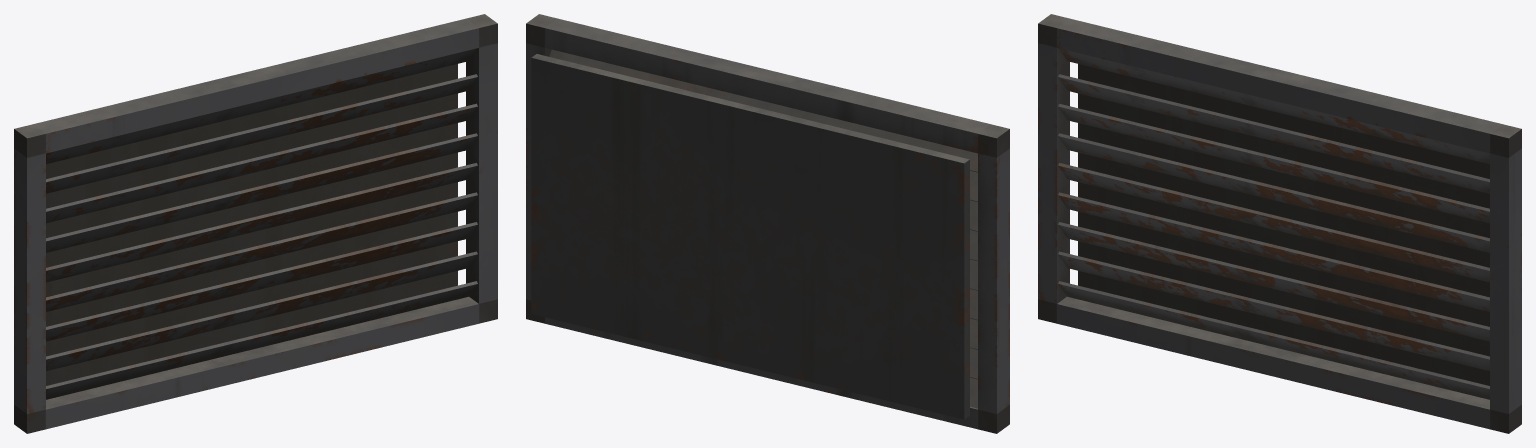
File: SM_VentGrille.fbx
3 views of the same model, side by side, from view 1: azimuth 30°, elevation 25°; view 2: azimuth 150°, elevation 25°; view 3: azimuth 330°, elevation 25° (orthographic).
Visible parts, largest first — view 1: SM_VentGrille; view 2: SM_VentGrille; view 3: SM_VentGrille.
Boxes of the visible parts, x1,y1,x2,y2 form: SM_VentGrille: (14, 14, 497, 433); SM_VentGrille: (526, 14, 1009, 433); SM_VentGrille: (1038, 14, 1521, 433).
Bounding box in the file's own units: 0.5 × 0.3 × 0.049.
1 material, 1 textured.
